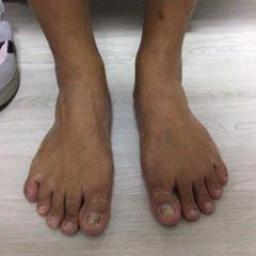Front View -Both Feet-: (20, 31, 244, 250)
